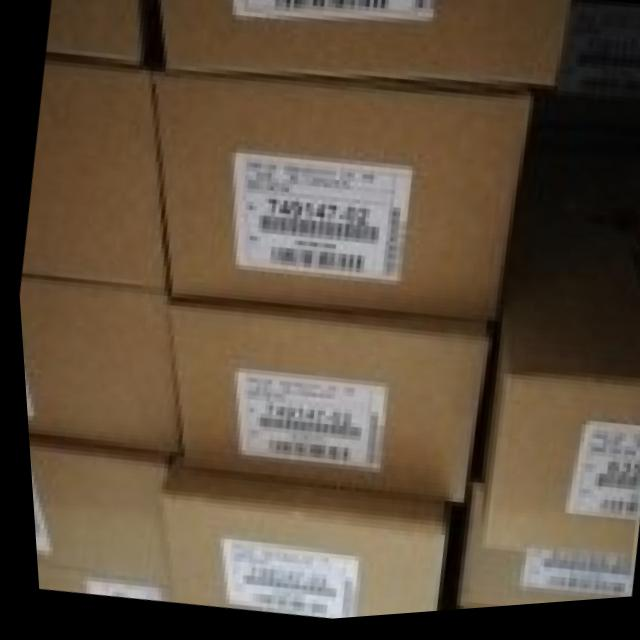box: (152, 73, 529, 328), (162, 307, 485, 513), (473, 290, 640, 568), (150, 475, 440, 623), (161, 0, 567, 94), (17, 60, 164, 290), (15, 277, 174, 455), (23, 441, 169, 604), (451, 489, 627, 614), (45, 0, 142, 63)
